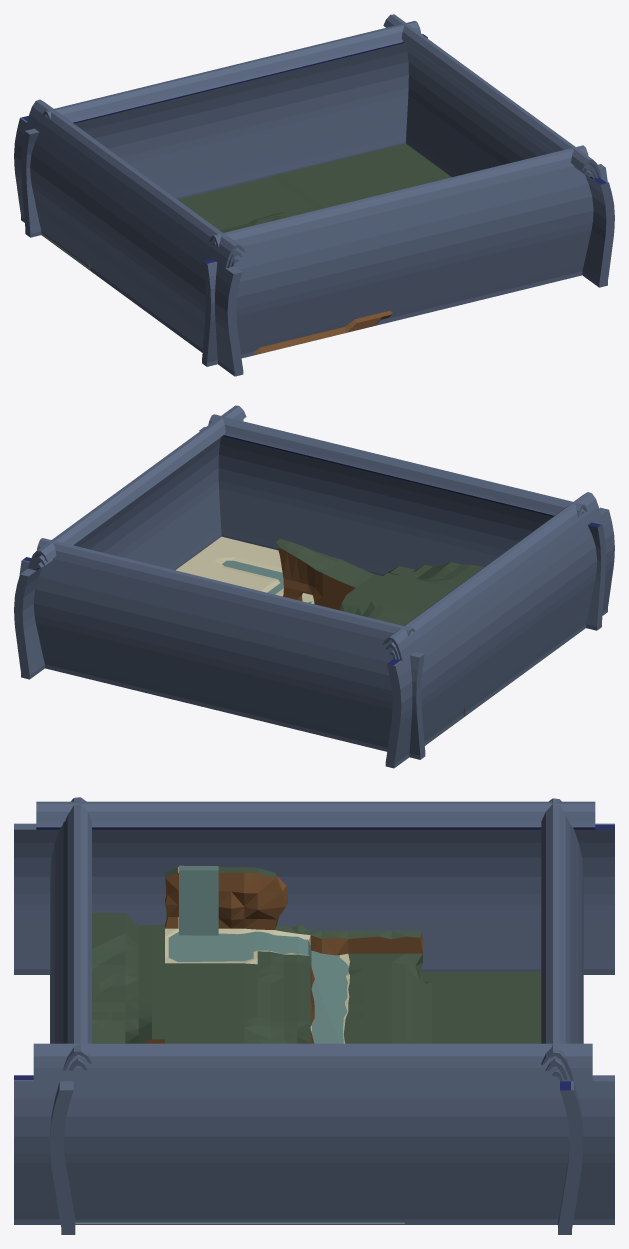
The model's file is MapTest3.glb.
3 views of the same model, one above another, from view 1: azimuth 30°, elevation 25°; view 2: azimuth 150°, elevation 25°; view 3: azimuth 270°, elevation 25° (orthographic). The views are drawn at different scales.
Parts seen in each view (by area): view 1: |group3|WaveWall5:pCube1_WaveWall5:phongE1, |WaveWall4:pCube1_WaveWall4:phongE1, |group4|WaveWall6:pCube1_WaveWall6:phongE1, |group5|pasted__group4|WaveWall7:pCube1_WaveWall7:phongE1, |pPlane2_lambert2, |pPlane2_lambert3, |WaveWall4:pCube1_WaveWall4:Inner_Wave; view 2: |WaveWall4:pCube1_WaveWall4:phongE1, |group3|WaveWall5:pCube1_WaveWall5:phongE1, |group4|WaveWall6:pCube1_WaveWall6:phongE1, |group5|pasted__group4|WaveWall7:pCube1_WaveWall7:phongE1, |pPlane2_lambert2, |pPlane2_lambert4, |pPlane2_lambert3, |group3|WaveWall5:pCube1_WaveWall5:Inner_Wave, |pPlane3_blinn2; view 3: |group5|pasted__group4|WaveWall7:pCube1_WaveWall7:phongE1, |group4|WaveWall6:pCube1_WaveWall6:phongE1, |pPlane2_lambert2, |WaveWall4:pCube1_WaveWall4:phongE1, |group3|WaveWall5:pCube1_WaveWall5:phongE1, |pPlane3_blinn2, |pPlane2_lambert3, |group4|WaveWall6:pCube1_WaveWall6:Inner_Wave, |pPlane2_lambert4.
Boxes of the visible parts, x1,y1,x2,y2 form: |group3|WaveWall5:pCube1_WaveWall5:phongE1: [202, 145, 607, 366]; |WaveWall4:pCube1_WaveWall4:phongE1: [21, 21, 427, 237]; |group4|WaveWall6:pCube1_WaveWall6:phongE1: [14, 99, 245, 376]; |group5|pasted__group4|WaveWall7:pCube1_WaveWall7:phongE1: [383, 14, 614, 287]; |pPlane2_lambert2: [40, 143, 451, 268]; |pPlane2_lambert3: [89, 260, 392, 353]; |WaveWall4:pCube1_WaveWall4:Inner_Wave: [73, 34, 427, 123]; |WaveWall4:pCube1_WaveWall4:phongE1: [19, 538, 425, 759]; |group3|WaveWall5:pCube1_WaveWall5:phongE1: [199, 414, 605, 630]; |group4|WaveWall6:pCube1_WaveWall6:phongE1: [382, 492, 614, 768]; |group5|pasted__group4|WaveWall7:pCube1_WaveWall7:phongE1: [14, 405, 246, 679]; |pPlane2_lambert2: [276, 539, 483, 744]; |pPlane2_lambert4: [176, 536, 314, 603]; |pPlane2_lambert3: [276, 543, 464, 715]; |group3|WaveWall5:pCube1_WaveWall5:Inner_Wave: [223, 435, 600, 527]; |pPlane3_blinn2: [222, 560, 312, 603]; |group5|pasted__group4|WaveWall7:pCube1_WaveWall7:phongE1: [14, 1043, 614, 1224]; |group4|WaveWall6:pCube1_WaveWall6:phongE1: [14, 801, 614, 974]; |pPlane2_lambert2: [92, 867, 541, 1043]; |WaveWall4:pCube1_WaveWall4:phongE1: [541, 798, 583, 1234]; |group3|WaveWall5:pCube1_WaveWall5:phongE1: [50, 797, 91, 1234]; |pPlane3_blinn2: [75, 865, 404, 1223]; |pPlane2_lambert3: [144, 872, 422, 1043]; |group4|WaveWall6:pCube1_WaveWall6:Inner_Wave: [36, 825, 614, 829]; |pPlane2_lambert4: [165, 867, 349, 1043].
Size of the model in its own units: 1212 by 358 by 1127.
